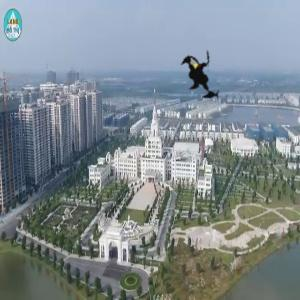drone: (165, 36, 246, 117)
